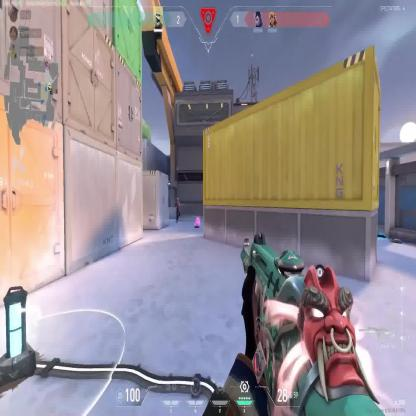enemy: (175, 196, 181, 224)
enemy_head: (176, 197, 179, 204)
